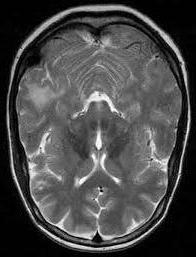Normal_Brain: (3, 1, 196, 257)
